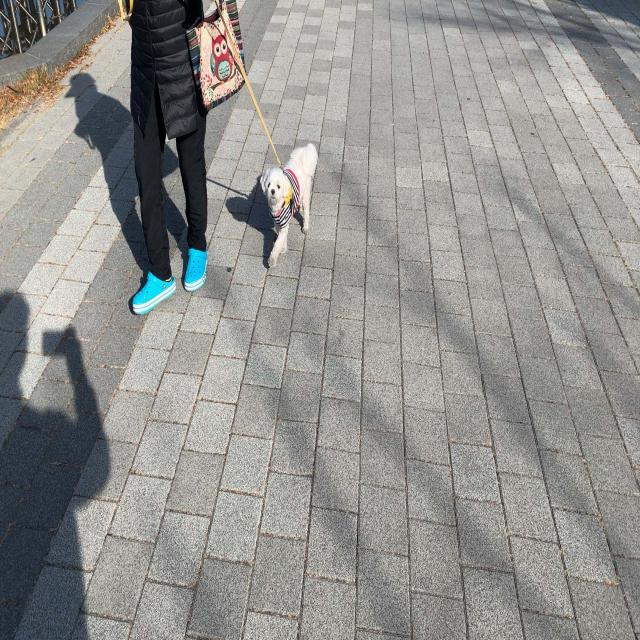Leashed_Dog: (184, 0, 320, 308)
